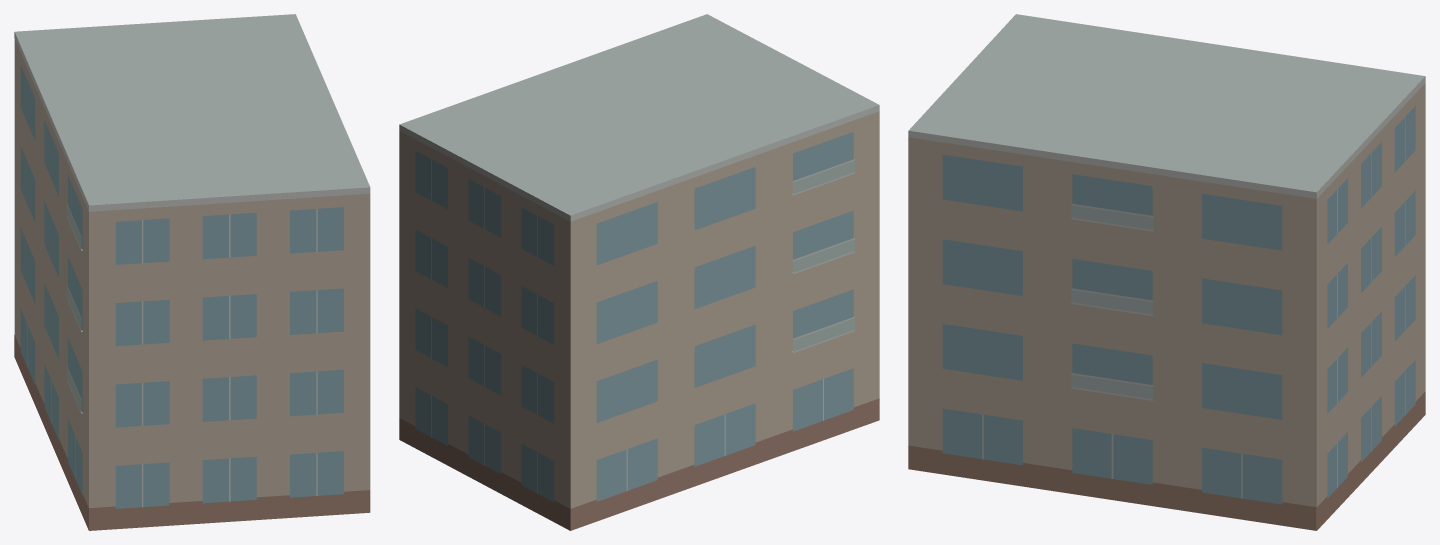
Rendered from survey-upis-32890139.glb.
The picture shows the model from 3 angles, left to right: view 1: azimuth 30°, elevation 25°; view 2: azimuth 150°, elevation 25°; view 3: azimuth 270°, elevation 25°; orthographic projection. The views are drawn at different scales.
Parts seen in each view (by area): view 1: survey-upis-32890139.tmp; view 2: survey-upis-32890139.tmp; view 3: survey-upis-32890139.tmp.
Part boxes in pixels (x1,y1,x2,y2): survey-upis-32890139.tmp: (14, 14, 370, 530); survey-upis-32890139.tmp: (399, 14, 879, 530); survey-upis-32890139.tmp: (908, 14, 1425, 530).
Bounding box in the file's own units: 14.13 × 12.5 × 17.32.
